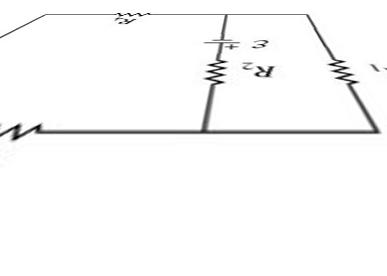resistor: (323, 52, 357, 89), (200, 57, 229, 90), (112, 6, 158, 17)
